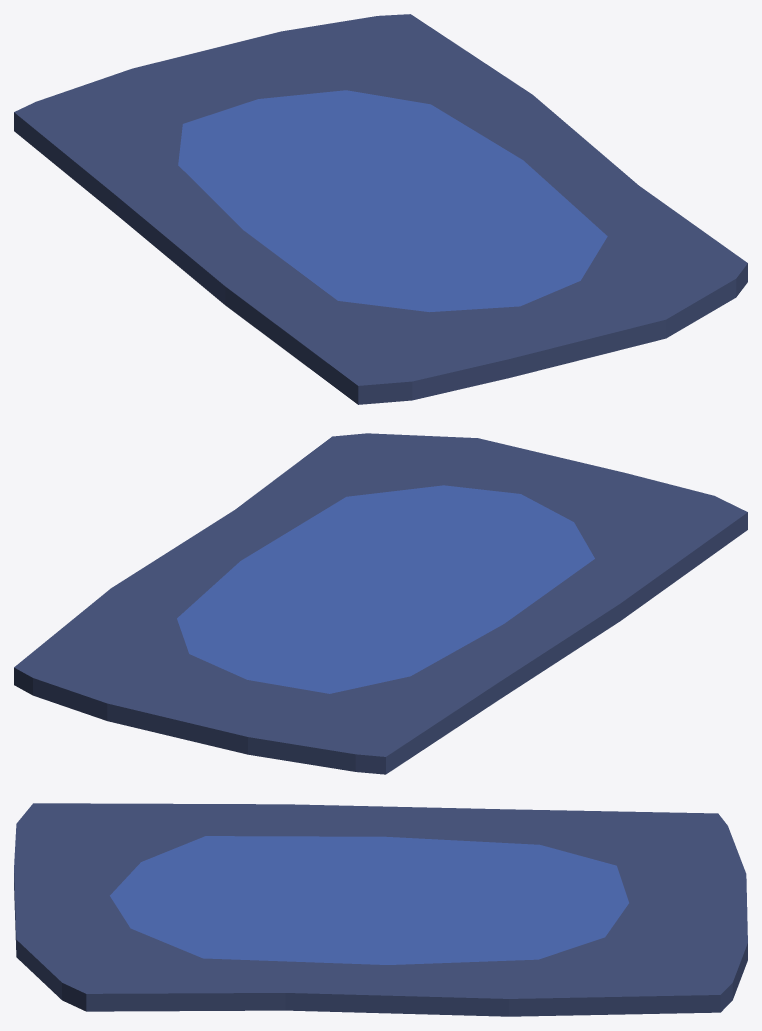
The model's file is tapete-1.fbx.
The picture shows the model from 3 angles, top to bottom: view 1: azimuth 30°, elevation 25°; view 2: azimuth 150°, elevation 25°; view 3: azimuth 270°, elevation 25°; orthographic projection. The views are drawn at different scales.
Parts seen in each view (by area): view 1: Tapete; view 2: Tapete; view 3: Tapete.
Boxes of the visible parts, x1,y1,x2,y2 form: Tapete: (14, 14, 747, 404); Tapete: (14, 433, 747, 774); Tapete: (14, 803, 747, 1016).
Bounding box in the file's own units: 866 × 36.59 × 1373.
